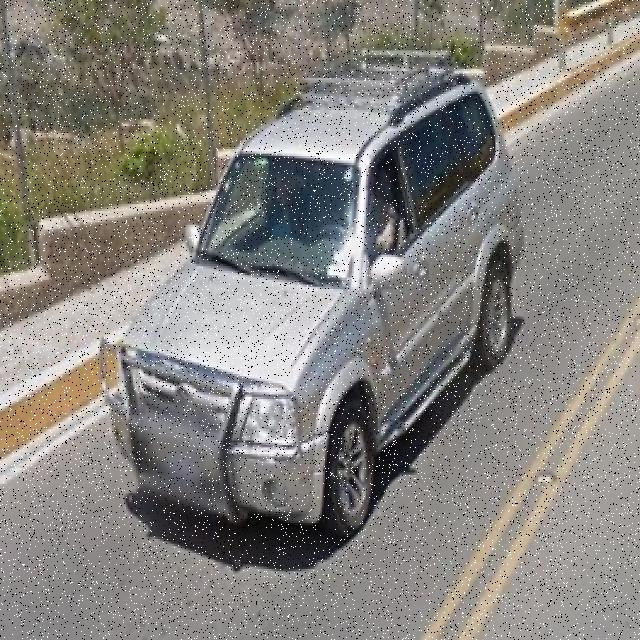cars: (100, 57, 518, 582)
